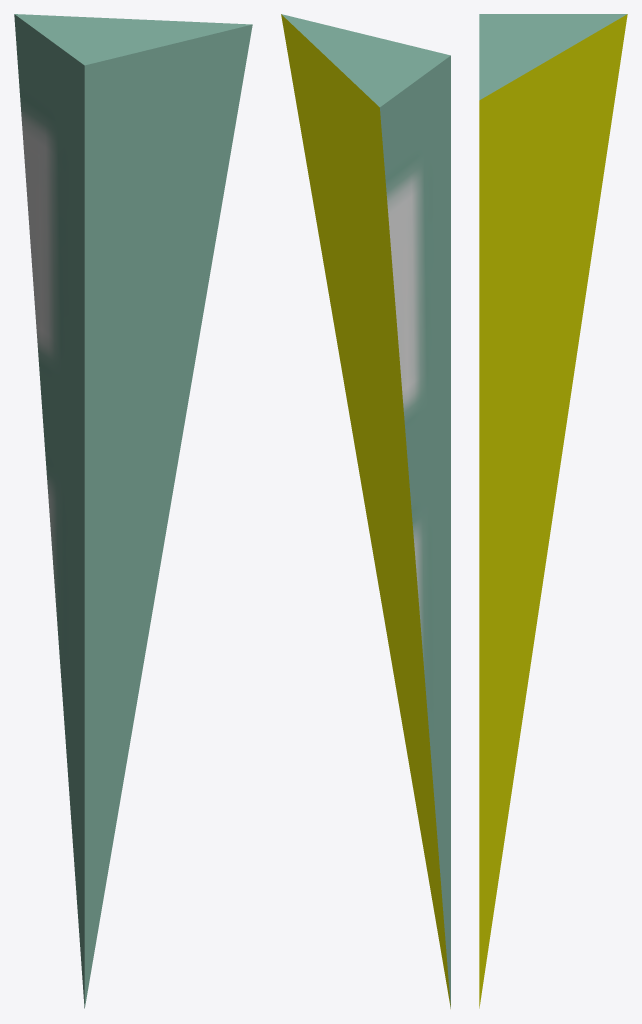
File: esShard6.fbx
3 renders of one model, left to right at view 1: azimuth 30°, elevation 25°; view 2: azimuth 150°, elevation 25°; view 3: azimuth 270°, elevation 25°, orthographic. The views are drawn at different scales.
Visible parts, largest first — view 1: shard64; view 2: shard64; view 3: shard64.
Boxes of the visible parts, x1,y1,x2,y2 form: shard64: (14,14,252,1008); shard64: (281,14,450,1008); shard64: (479,14,627,1008).
Size of the model in its own units: 0.00963 by 0.0517 by 0.00698.
Materials: 2 (1 with a texture image).
